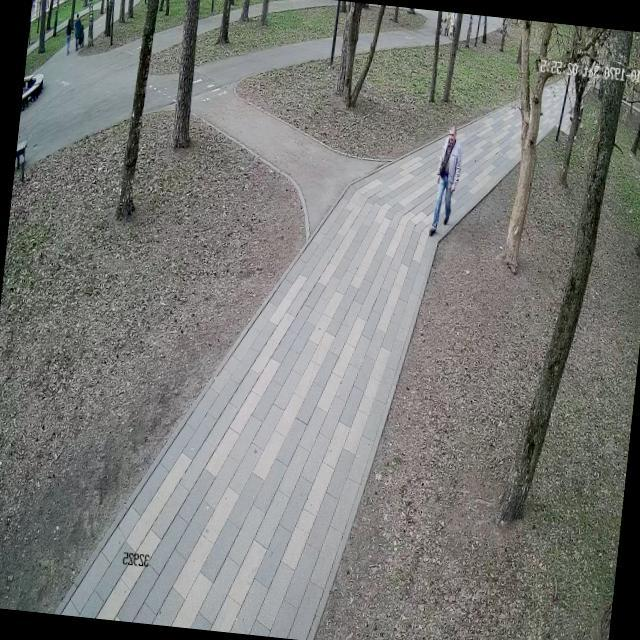person: (428, 122, 466, 239)
